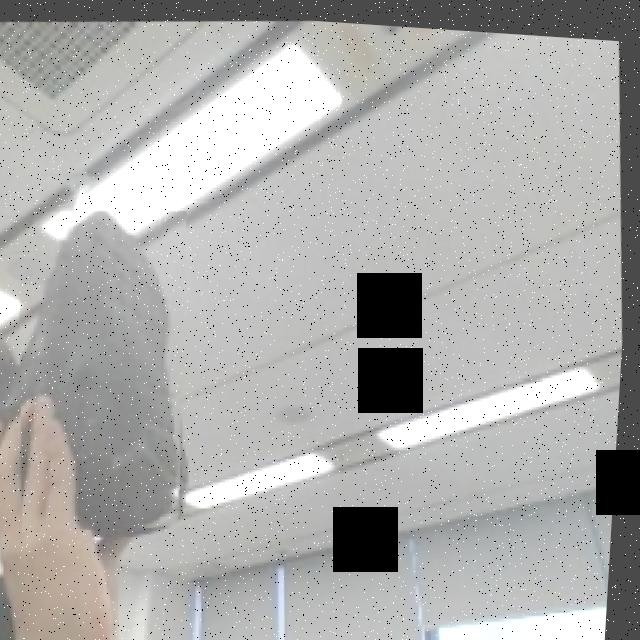shoe: (6, 199, 211, 541)
